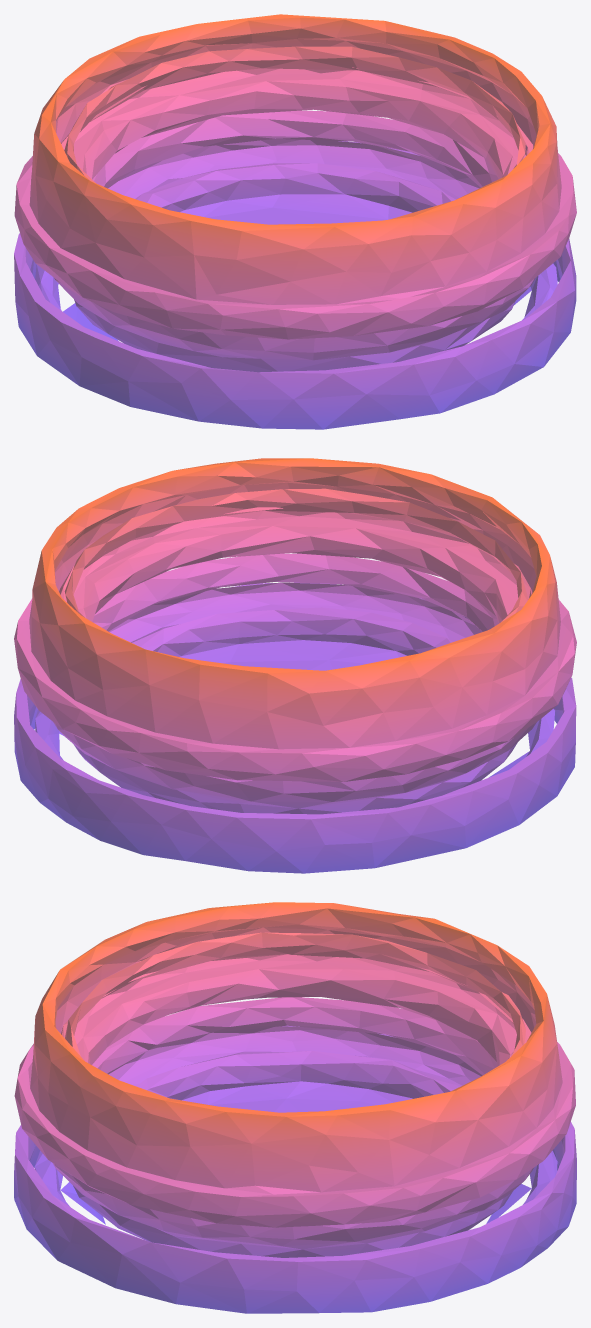
Rendered from 97_cyb_laser_gradient_fish_scales_2954_2026_10_03_f1a322.glb.
3 views of the same model, one above another, from view 1: azimuth 30°, elevation 25°; view 2: azimuth 150°, elevation 25°; view 3: azimuth 270°, elevation 25° (orthographic).
Parts seen in each view (by area): view 1: geometry_0; view 2: geometry_0; view 3: geometry_0.
Boxes of the visible parts, box(x1,y1,x2,y2) form: geometry_0: box(14, 14, 576, 429); geometry_0: box(14, 458, 576, 873); geometry_0: box(14, 902, 576, 1313).
Size of the model in its own units: 1 by 0.417 by 1.
